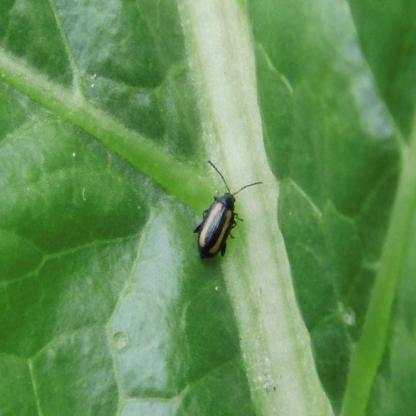beetle: (188, 157, 258, 261)
